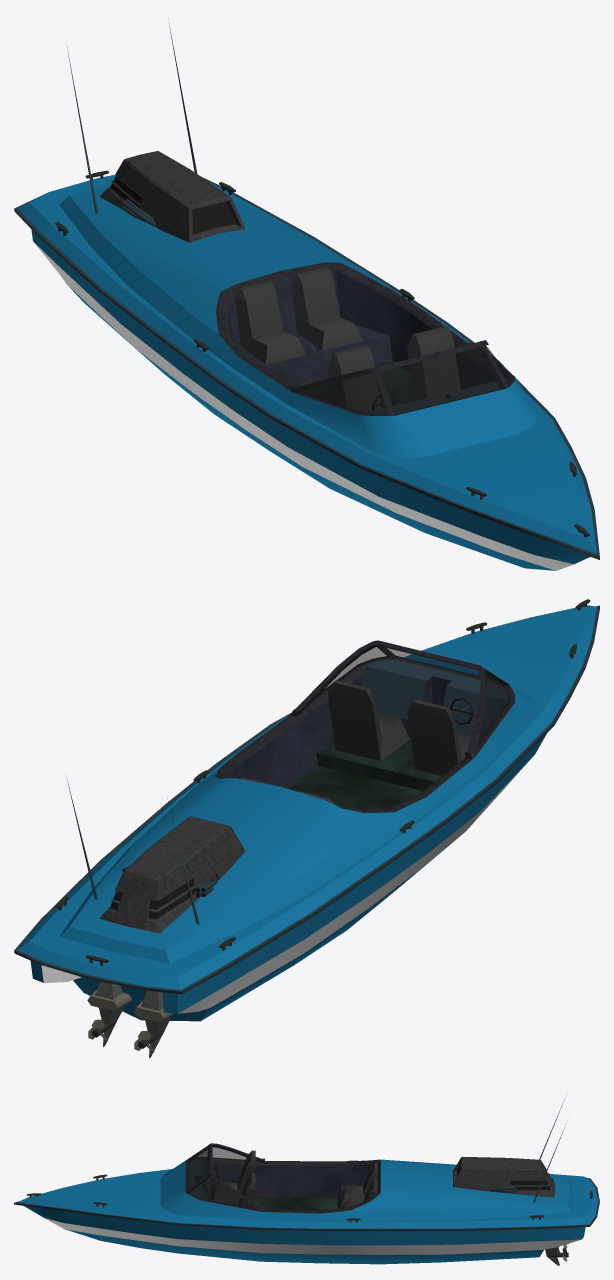
The model's file is Boat_1.FBX.
3 views of the same model, one above another, from view 1: azimuth 30°, elevation 25°; view 2: azimuth 150°, elevation 25°; view 3: azimuth 270°, elevation 25° (orthographic). The views are drawn at different scales.
Visible parts, largest first — view 1: Body; view 2: Body; view 3: Body.
Part boxes in pixels (left/top/right/bottom): Body: left=14, top=21, right=599, bottom=570; Body: left=14, top=599, right=599, bottom=1058; Body: left=14, top=1097, right=599, bottom=1265.
Bounding box in the file's own units: 73.64 × 83.67 × 281.
Materials: 4 (1 with a texture image).
